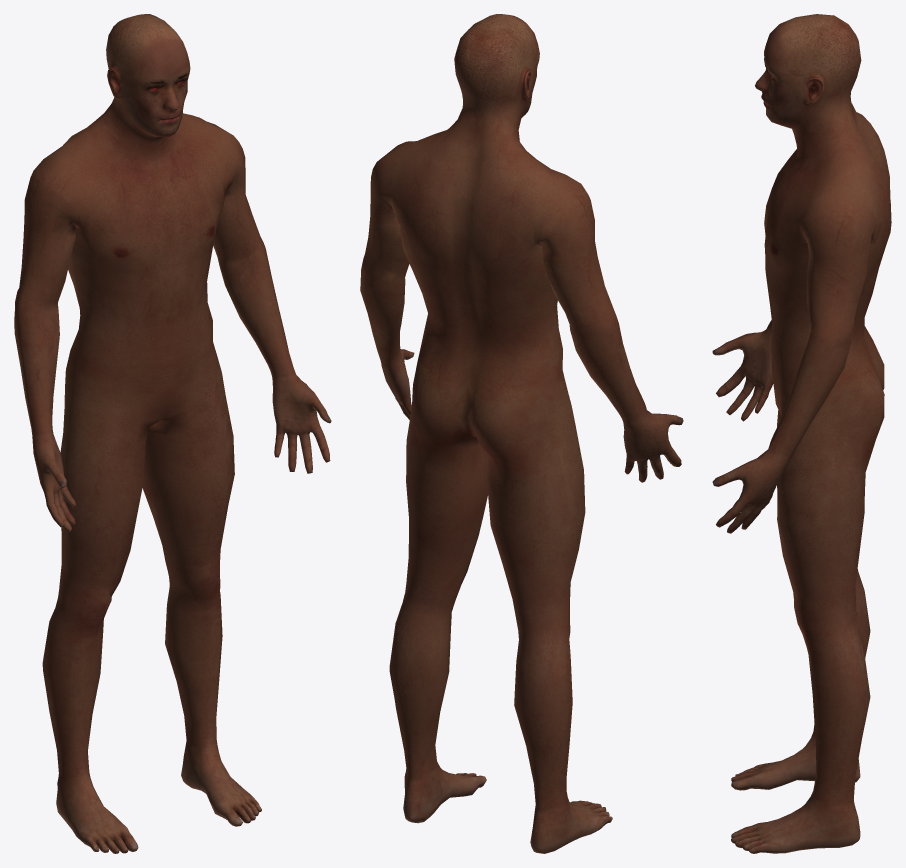
The model's file is Skin.FBX.
3 renders of one model, left to right at view 1: azimuth 30°, elevation 25°; view 2: azimuth 150°, elevation 25°; view 3: azimuth 270°, elevation 25°, orthographic.
Visible parts, largest first — view 1: Skin; view 2: Skin; view 3: Skin.
Part boxes in pixels (<box>): Skin: <box>14,14,331,853</box>; Skin: <box>360,14,683,853</box>; Skin: <box>712,14,891,853</box>.
Size of the model in its own units: 574 by 318 by 1564.
